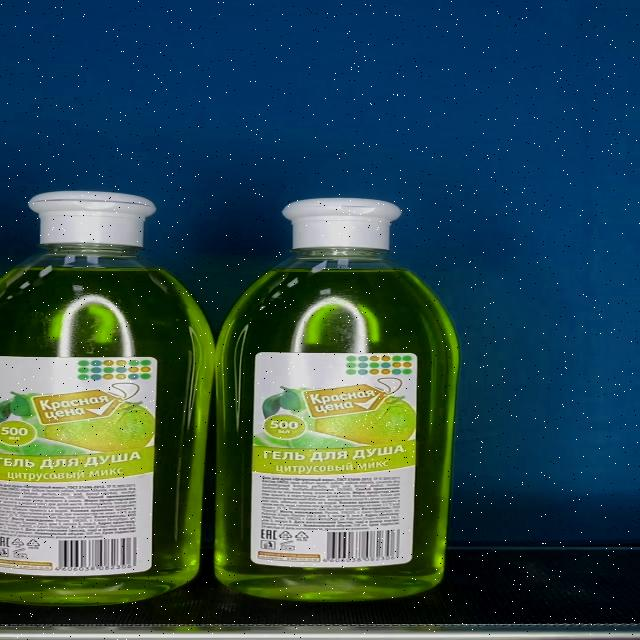Bottle: (213, 197, 462, 601), (0, 191, 219, 605)
Cap: (30, 192, 158, 248), (282, 198, 402, 250)
